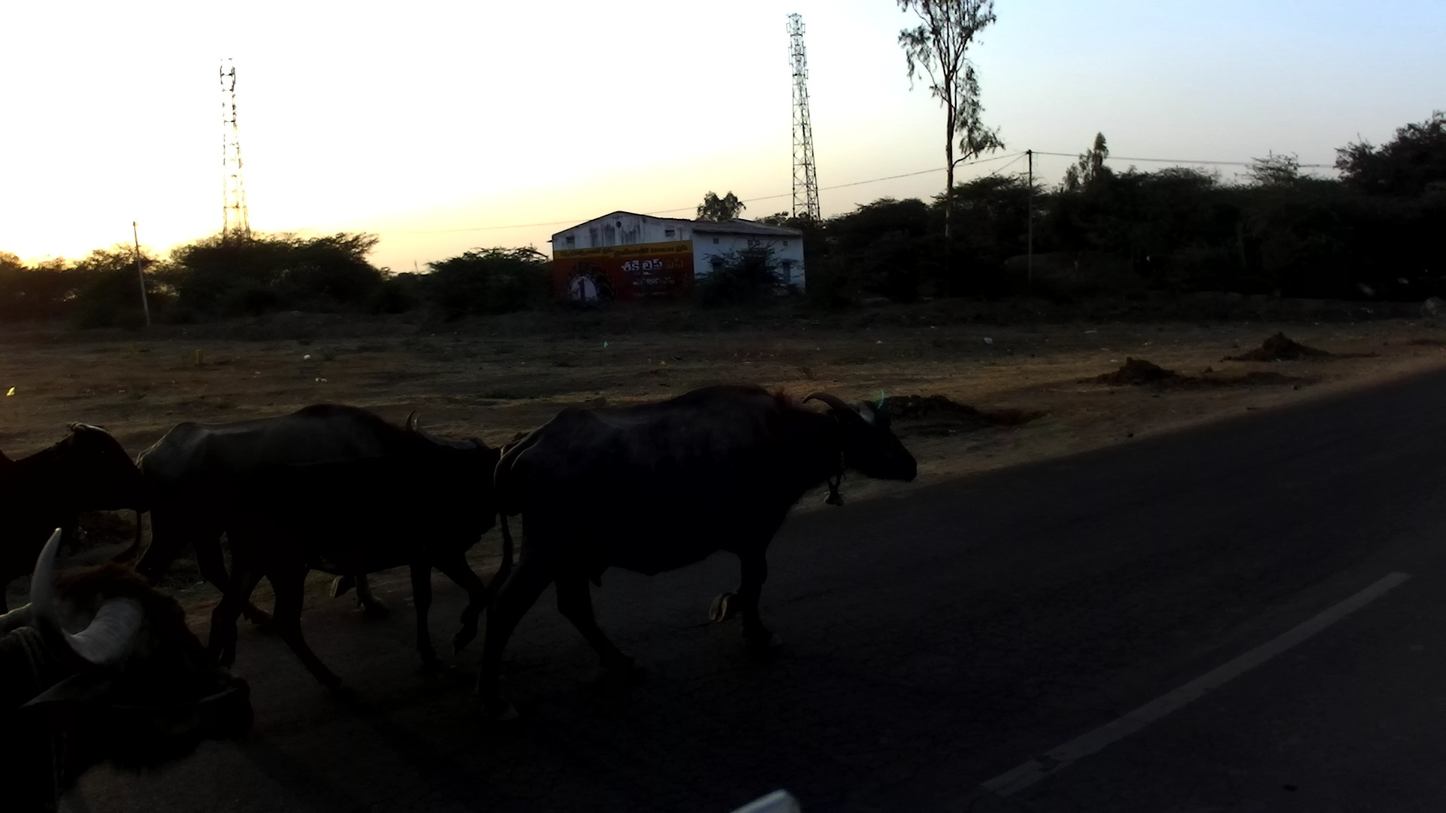animal: (477, 382, 920, 714), (174, 397, 526, 754), (1, 525, 255, 813), (123, 406, 426, 634), (1, 423, 155, 614)
